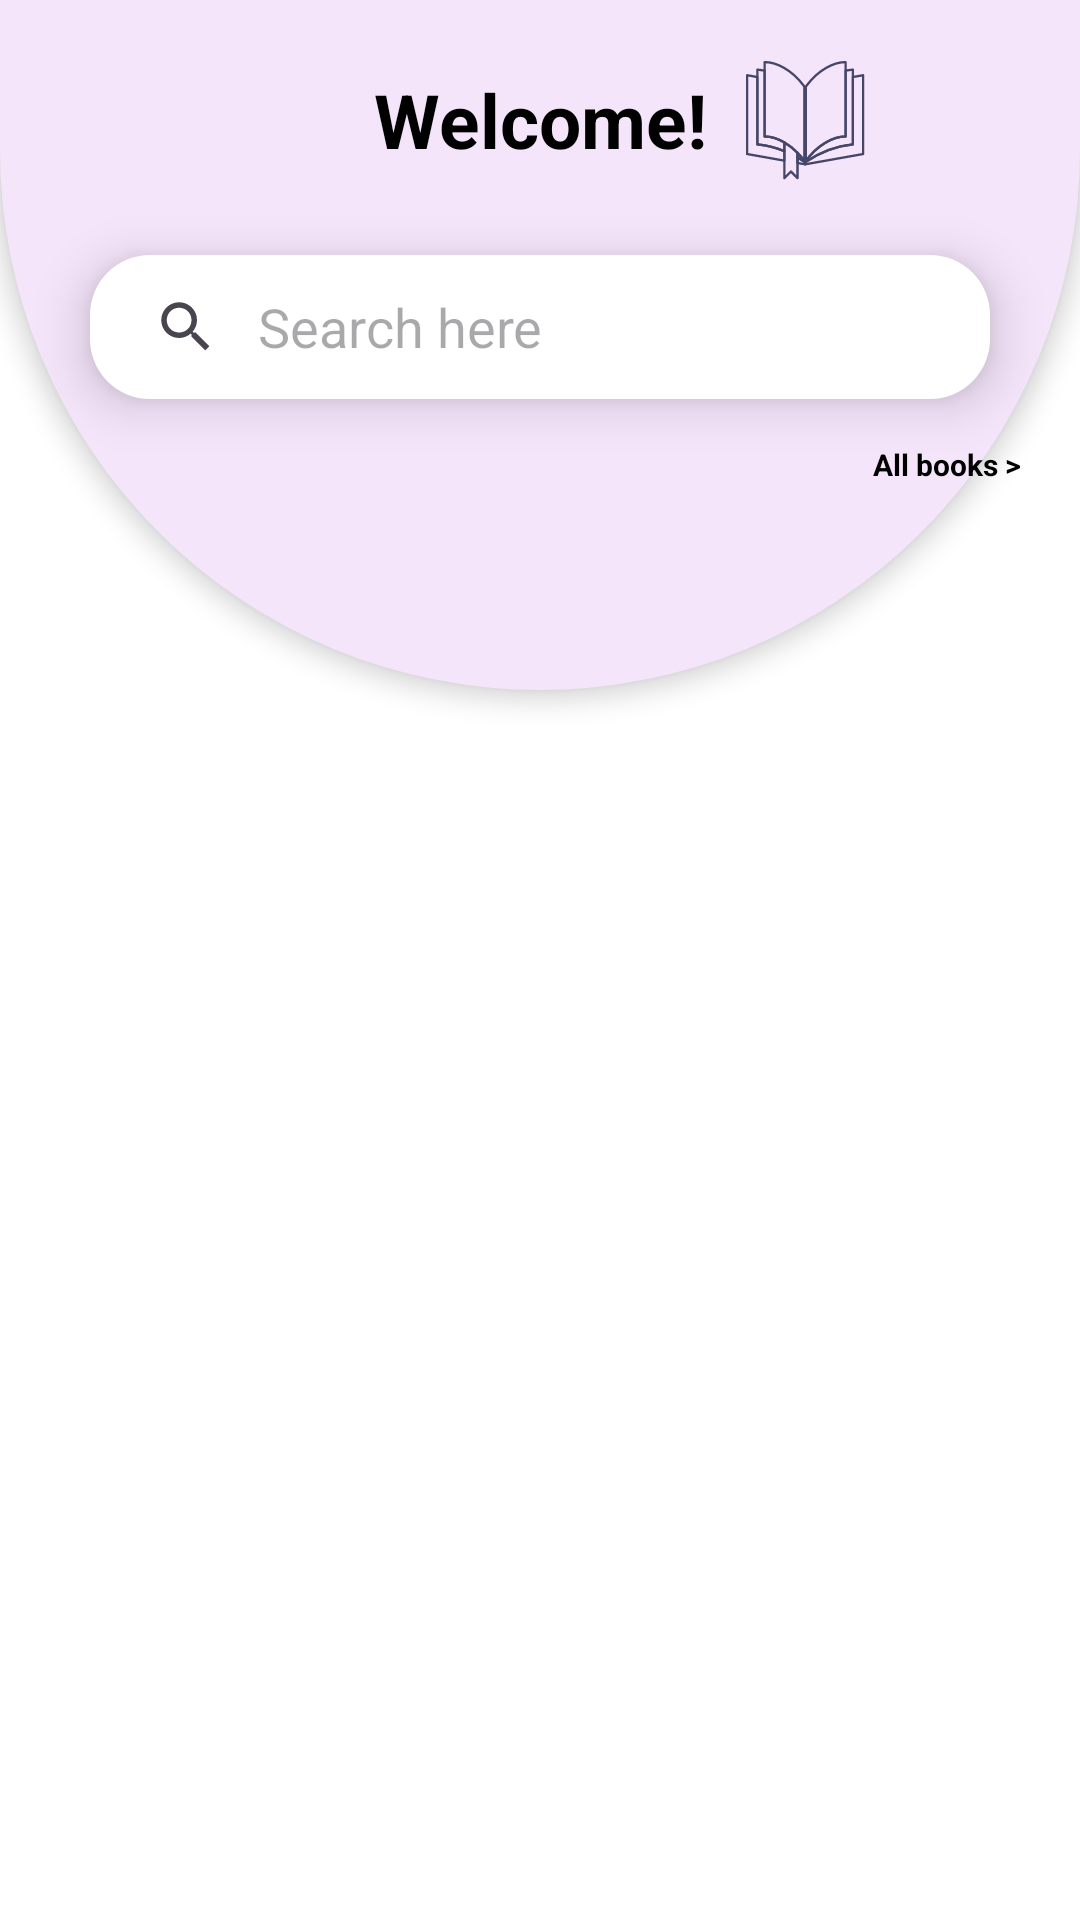

Point at icon controls on the screen. Image size 1080px x 1920px, points as (x=x, y=y).
book: (x=805, y=120)
